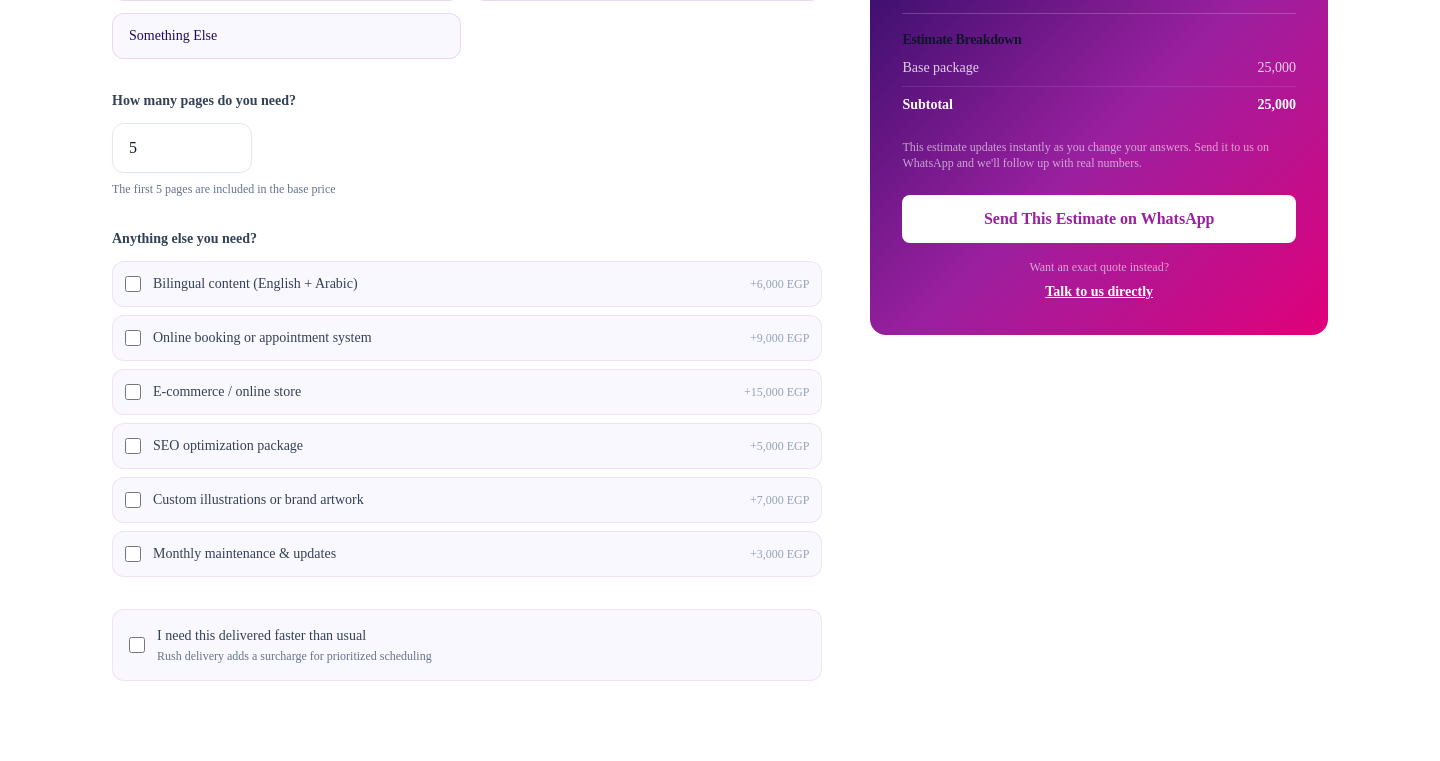
Test: EstimatePage › adds a rush surcharge line and updates the total when rush delivery is checked
The width and height of the screenshot is (1440, 761).
(page scrolled)
Click the checkbox labelled "I need this delivered faster than usual".
click(137, 645)  # box [129,637,145,653]
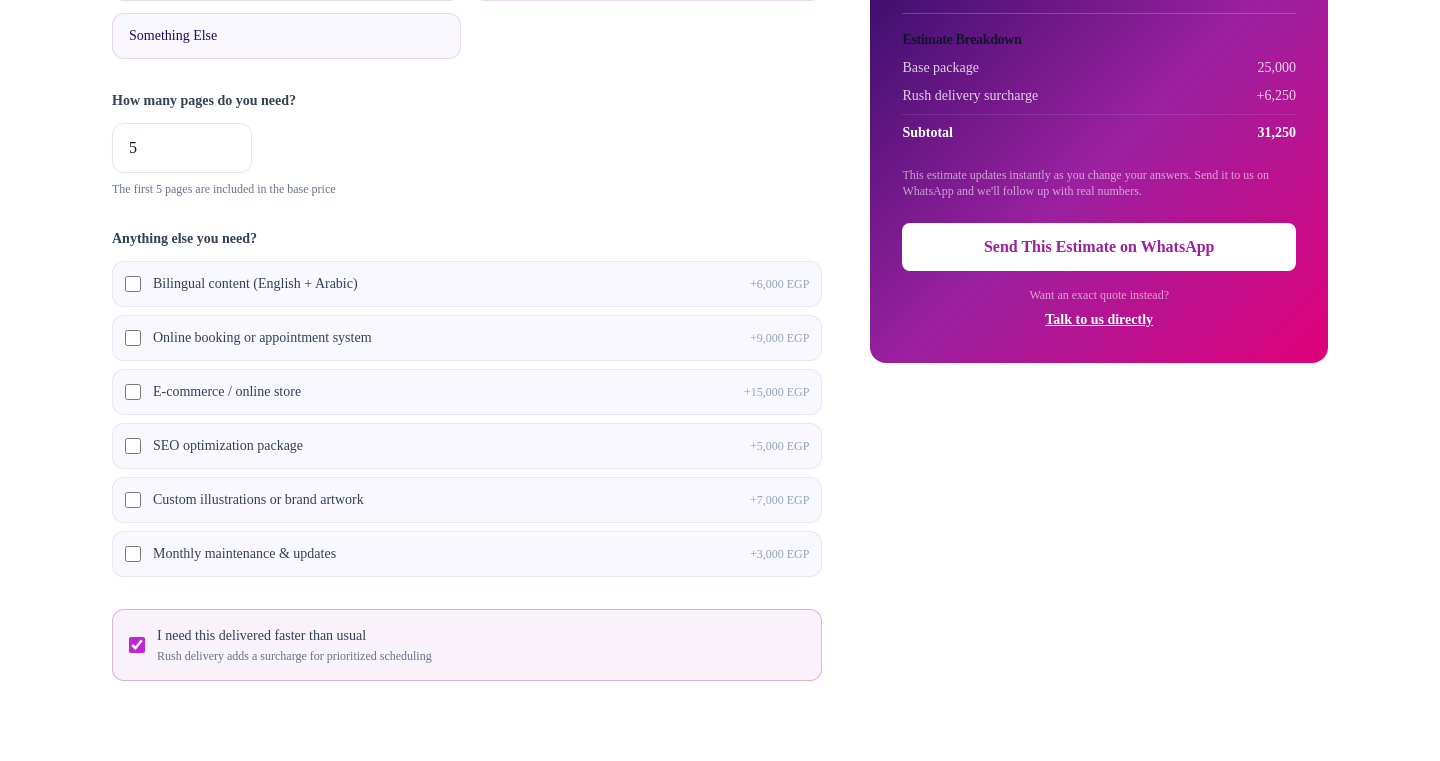
Now the text "Rush delivery surcharge" is shown, box [902,86,1038,106]
